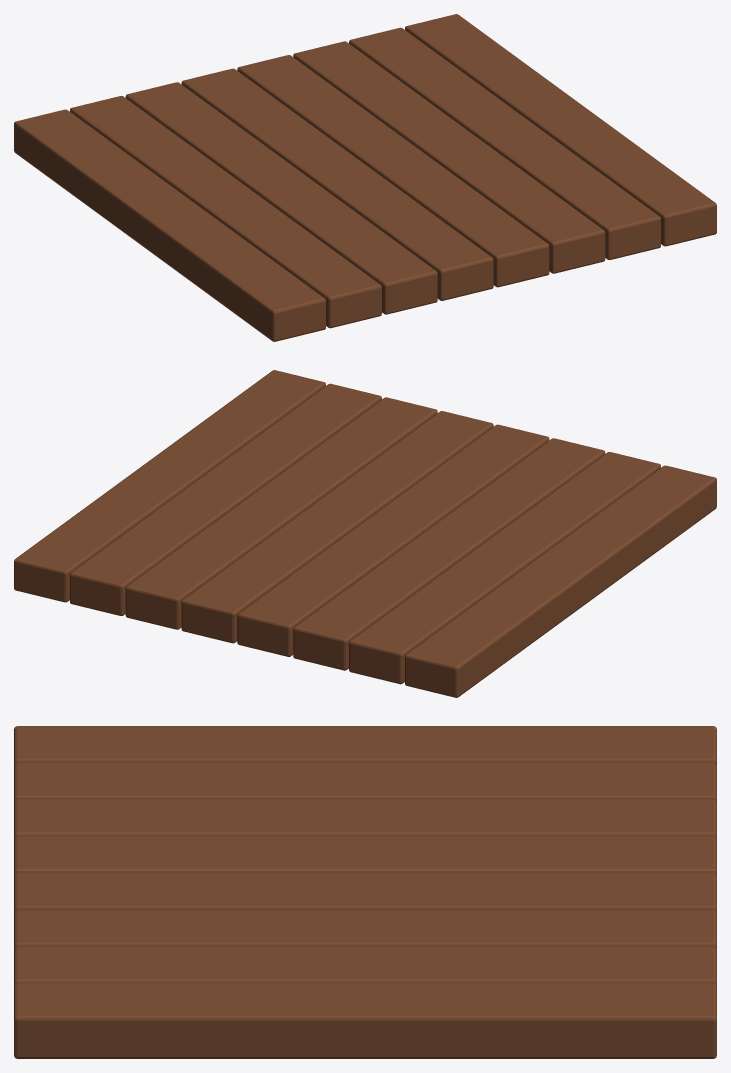
Rendered from floor.glb.
3 views of the same model, one above another, from view 1: azimuth 30°, elevation 25°; view 2: azimuth 150°, elevation 25°; view 3: azimuth 270°, elevation 25° (orthographic). The views are drawn at different scales.
Parts seen in each view (by area): view 1: floor; view 2: floor; view 3: floor.
Boxes of the visible parts, x1,y1,x2,y2 form: floor: (14,14,716,341); floor: (14,370,716,697); floor: (14,726,716,1058).
Bounding box in the file's own units: 2.37 × 0.16 × 2.4.
